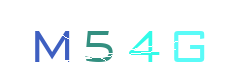4: (85, 0, 165, 80)
5: (58, 0, 138, 80)
G: (127, 0, 207, 80)
M: (11, 0, 91, 80)
